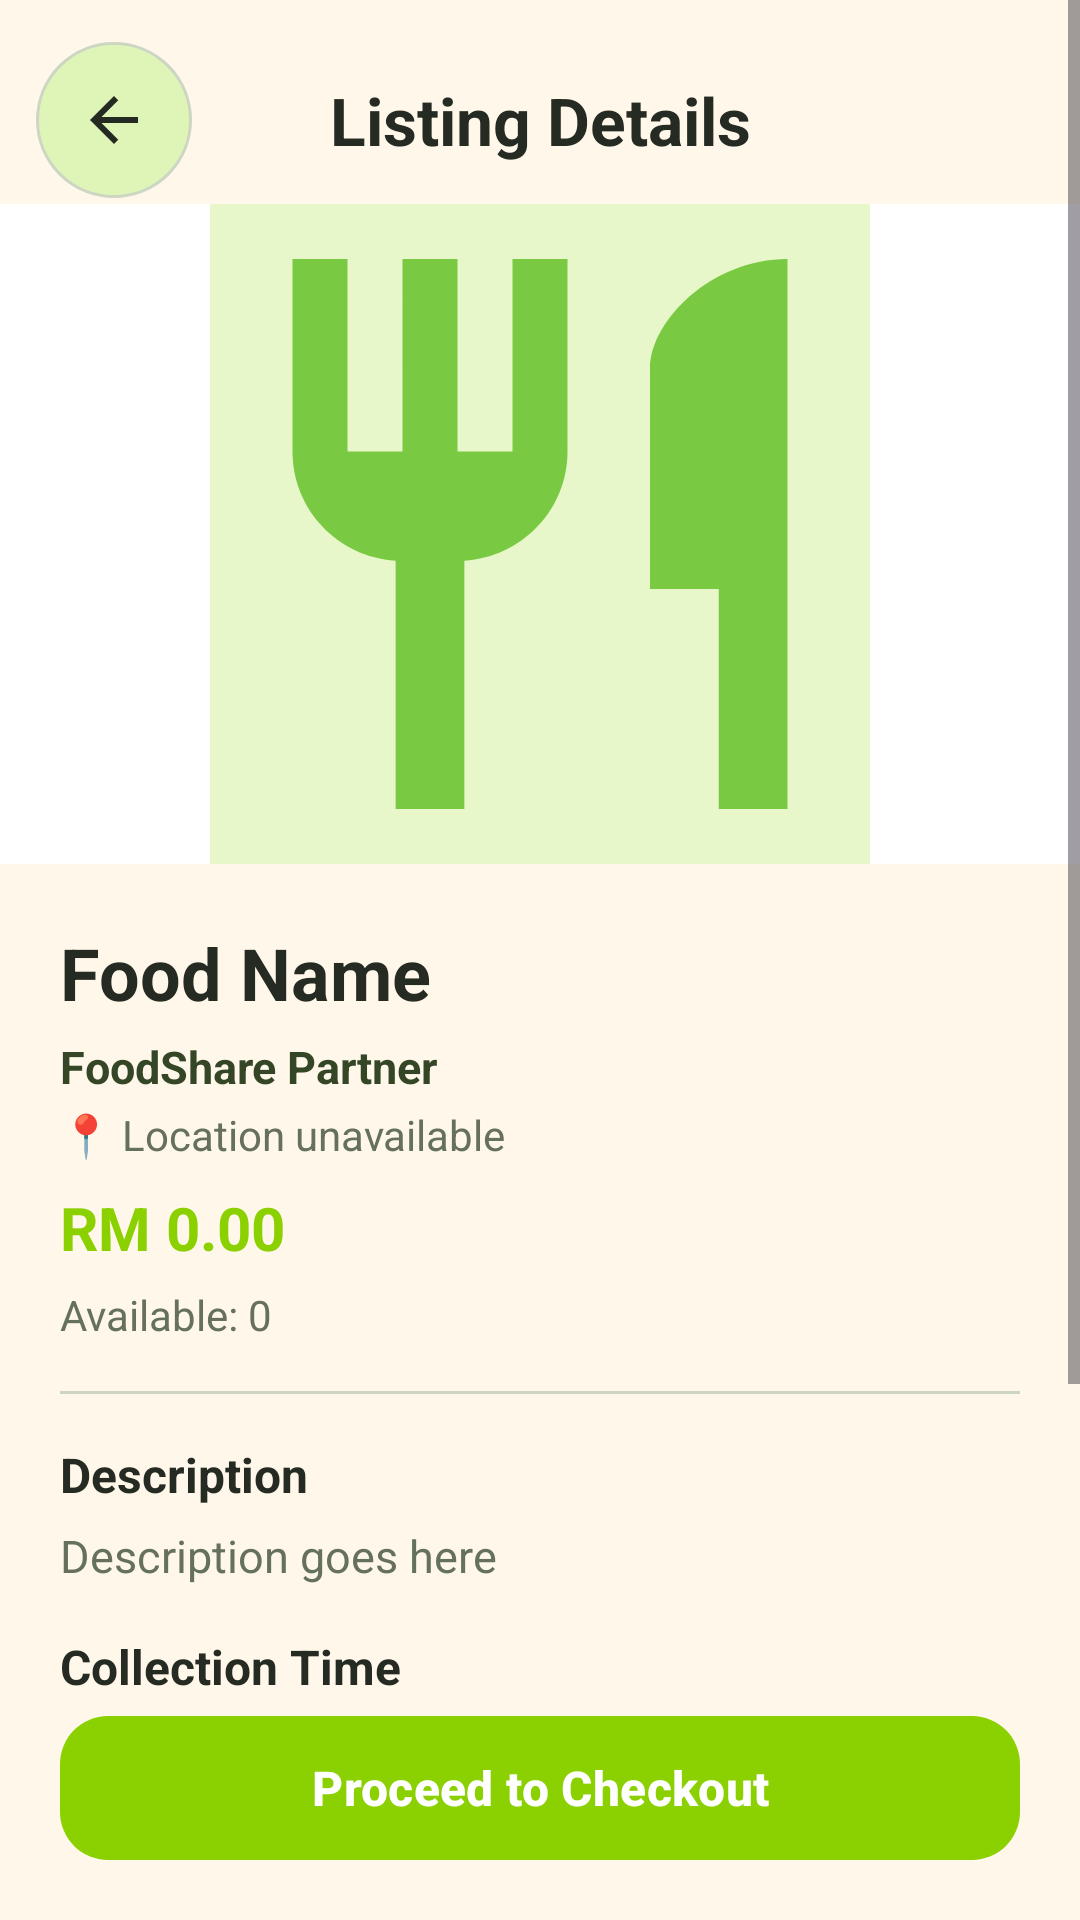

Icons on this 1080w x 1920h Android screen, each with its box as (x1, y1, x2, y2):
back: (36, 42, 192, 198)
